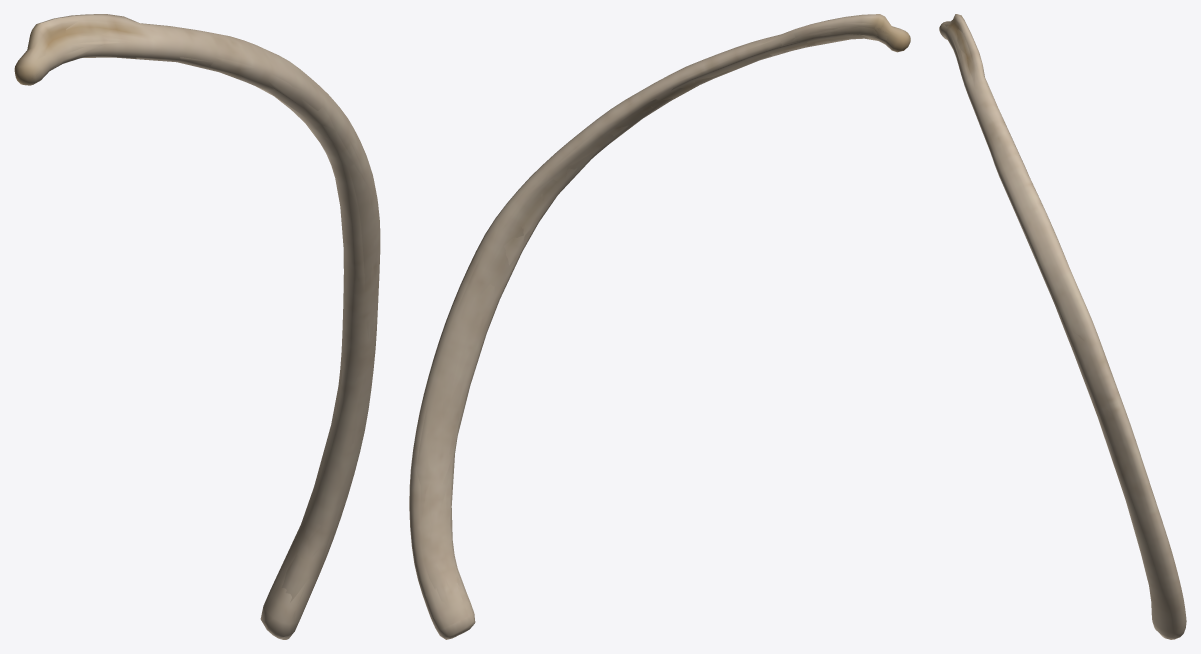
The model's file is Rib L12.fbx.
The picture shows the model from 3 angles, left to right: view 1: azimuth 30°, elevation 25°; view 2: azimuth 150°, elevation 25°; view 3: azimuth 270°, elevation 25°; orthographic projection. The views are drawn at different scales.
Parts seen in each view (by area): view 1: Rib L12, Rib L12 low; view 2: Rib L12, Rib L12 low; view 3: Rib L12, Rib L12 low.
Boxes of the visible parts, x1,y1,x2,y2 form: Rib L12: [14, 14, 380, 639]; Rib L12 low: [17, 15, 379, 639]; Rib L12: [409, 14, 910, 639]; Rib L12 low: [414, 14, 909, 639]; Rib L12: [939, 14, 1186, 639]; Rib L12 low: [939, 14, 1186, 636].
Bounding box in the file's own units: 26.29 × 40.81 × 18.18.
1 material, 1 textured.
